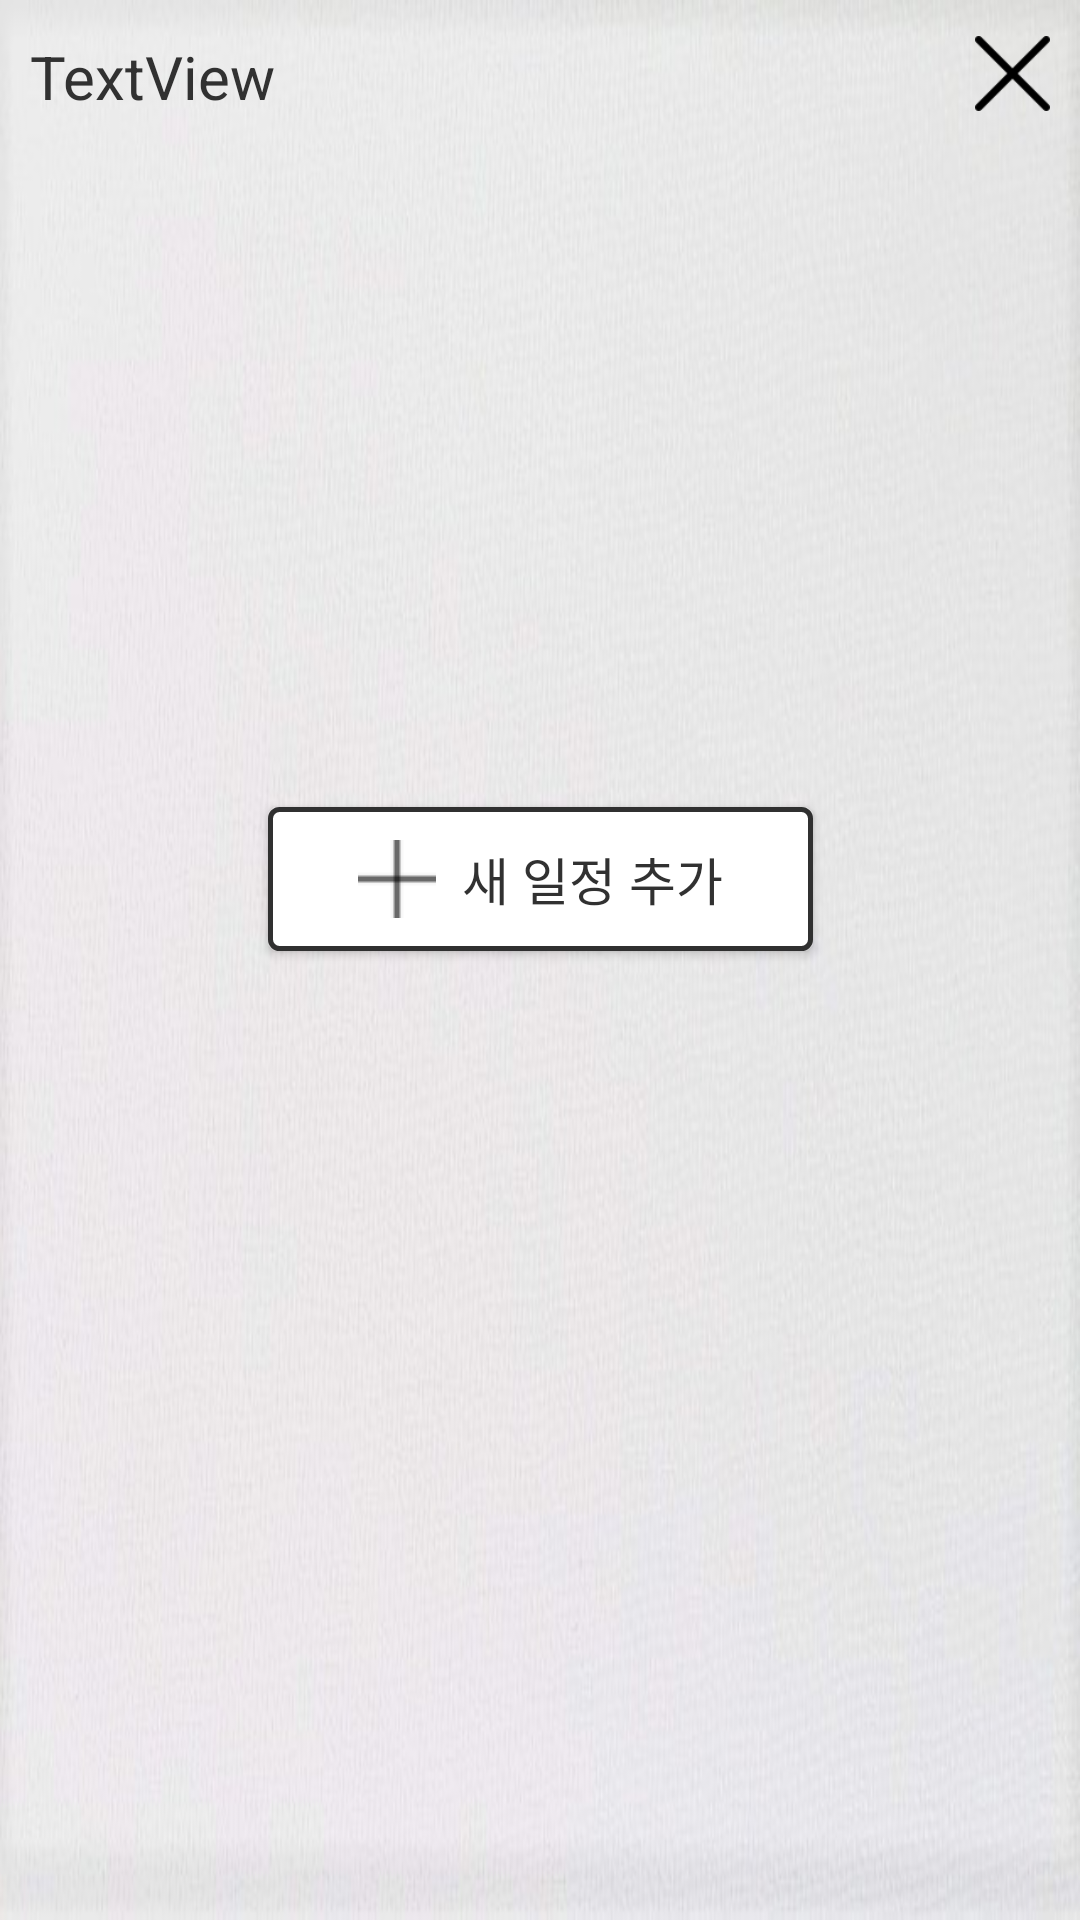

Icons on this 1080px x 1920px Android screen, each with the point to tap as point (x, y):
exit: point (1012, 73)
